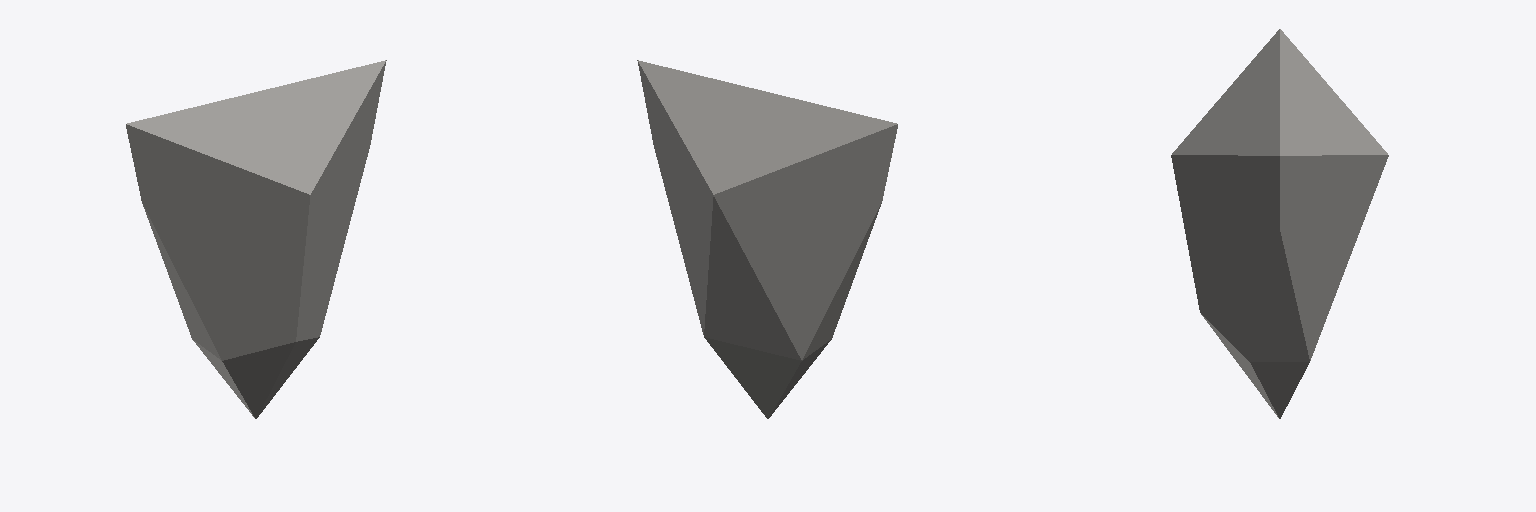
The model's file is Prop_Cliff_Rock_2.obj.
The picture shows the model from 3 angles: view 1: azimuth 30°, elevation 25°; view 2: azimuth 150°, elevation 25°; view 3: azimuth 270°, elevation 25°; orthographic projection.
Visible parts, largest first — view 1: object1; view 2: object1; view 3: object1.
Part boxes in pixels (x1,y1,x2,y2): object1: (126, 60, 386, 418); object1: (637, 60, 897, 418); object1: (1171, 29, 1388, 418).
Size of the model in its own units: 1 by 1.2 by 0.723.